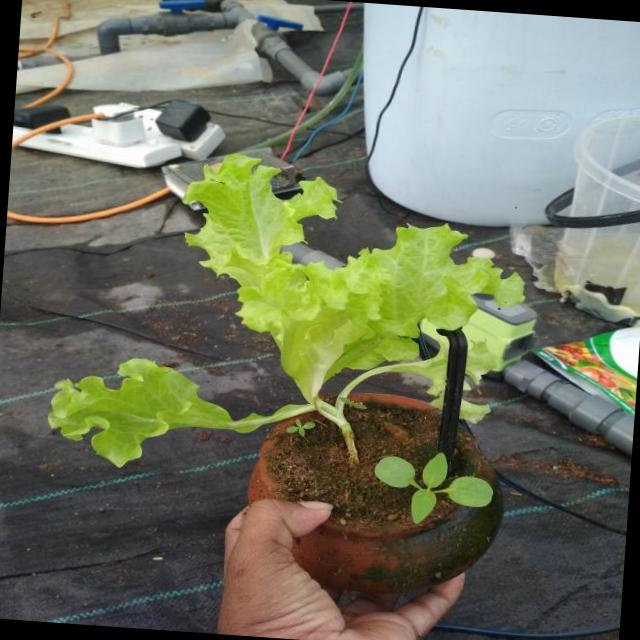Lettuce-Not-Ready-to-Harvest: (50, 154, 522, 465)
